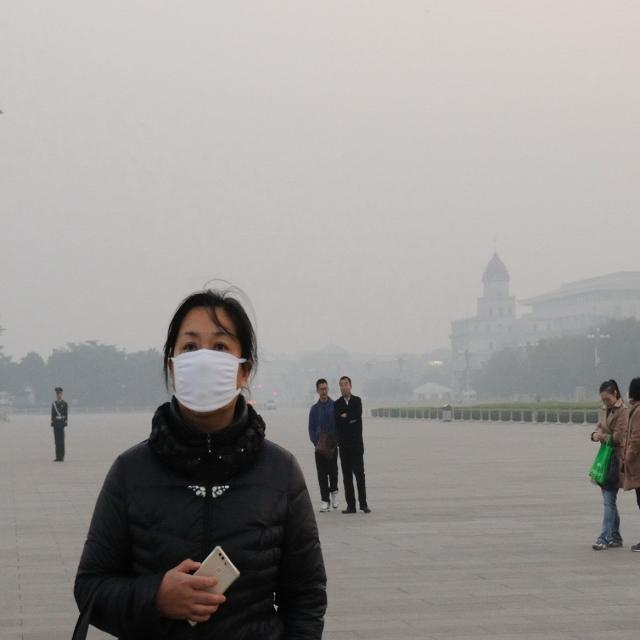mask: (171, 305, 240, 412)
nomask: (600, 388, 613, 405), (338, 378, 351, 394), (319, 382, 329, 398)
